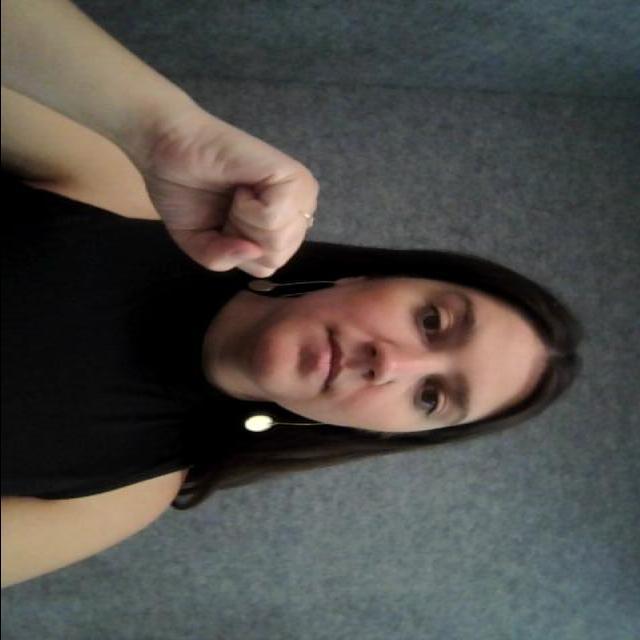Rock: (134, 122, 326, 282)
